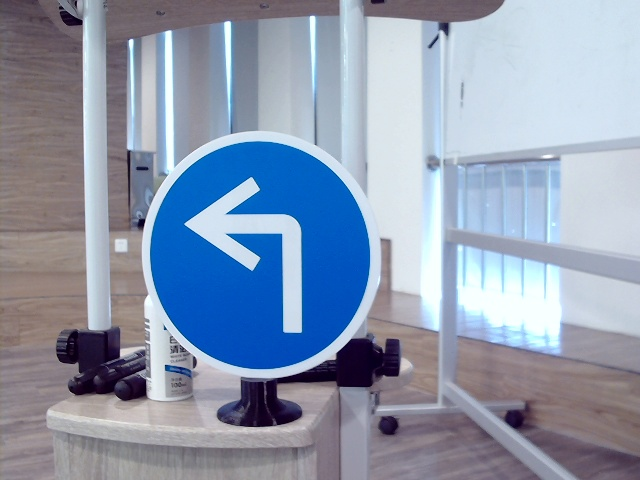turn_left: (183, 171, 316, 336)
